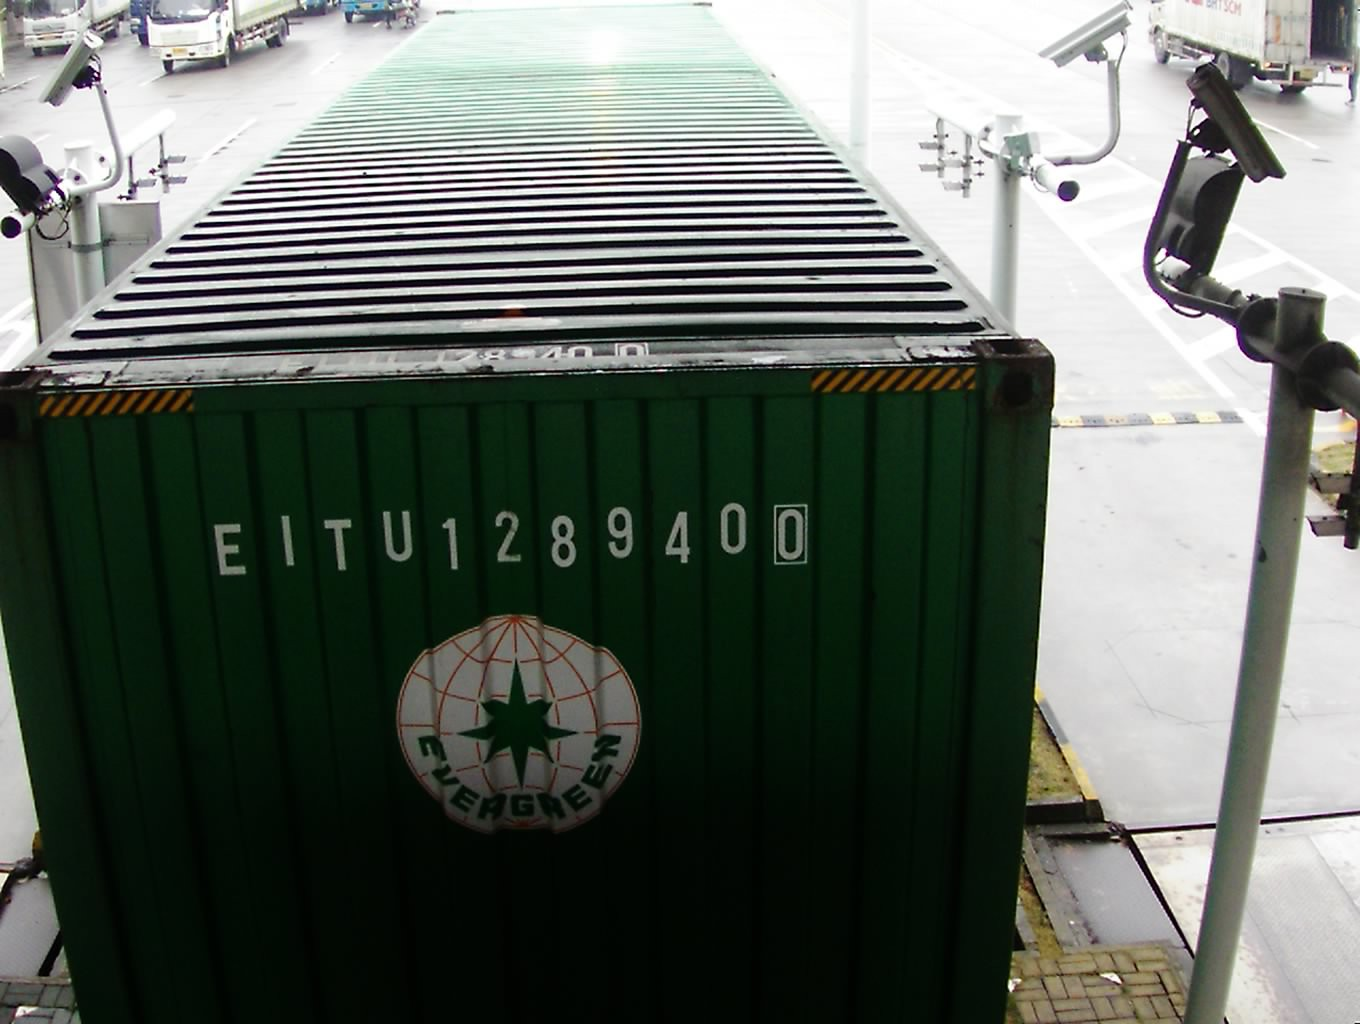words: (186, 496, 813, 583)
